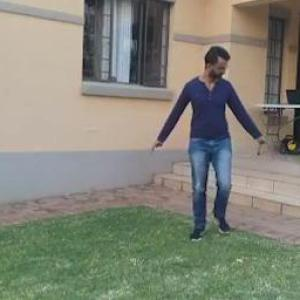land: (142, 33, 278, 255)
